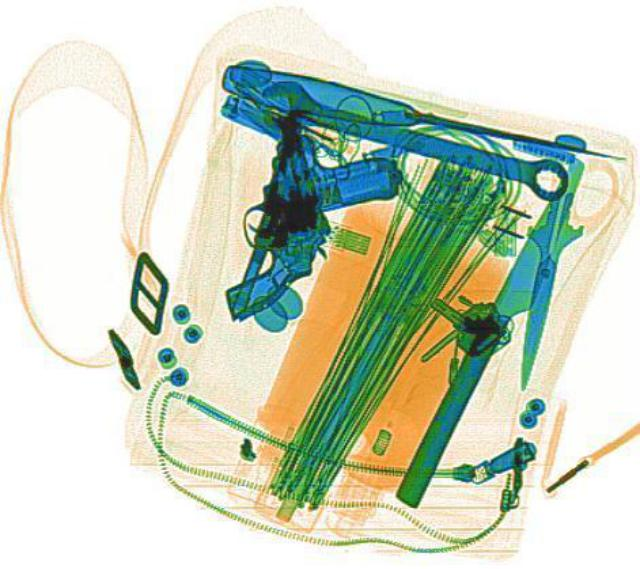Gun: (210, 122, 412, 343), (173, 99, 347, 320)
Knife: (387, 161, 597, 508), (206, 50, 636, 183)
Scissors: (466, 143, 624, 396)
Wrench: (250, 72, 578, 201)
